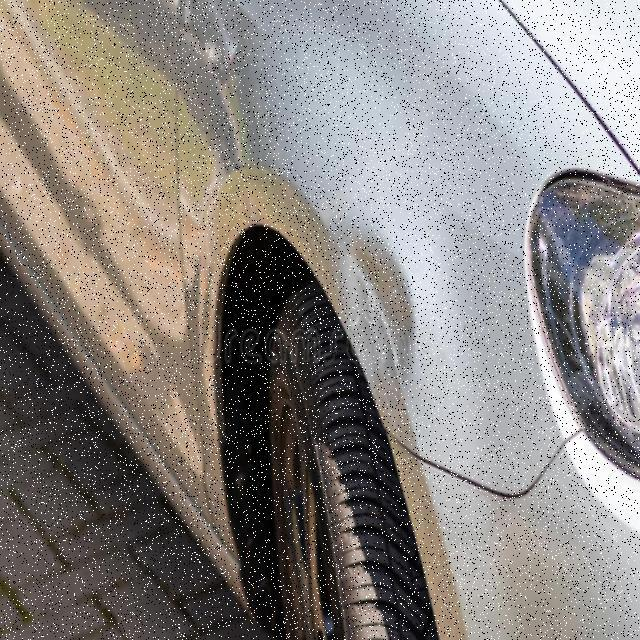fender-dent: (188, 1, 505, 530)
